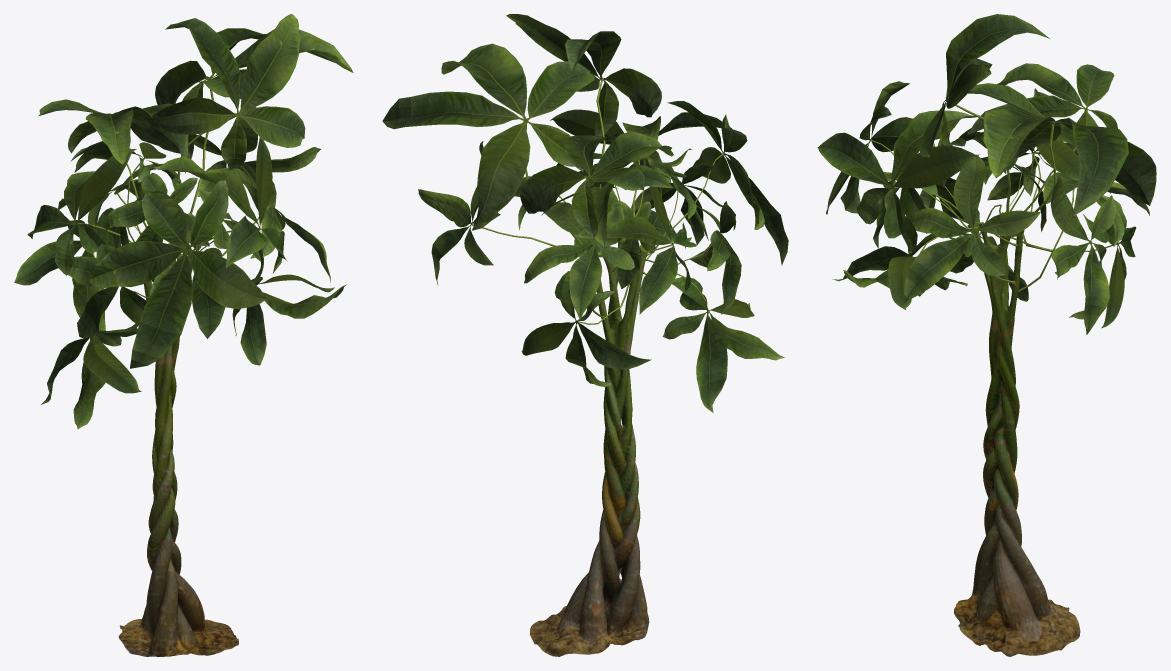
Rendered from pachira-c.glb.
3 views of the same model, side by side, from view 1: azimuth 30°, elevation 25°; view 2: azimuth 150°, elevation 25°; view 3: azimuth 270°, elevation 25° (orthographic). The views are drawn at different scales.
Size of the model in its own units: 0.7439 by 1.3 by 0.6465.
Materials: 2 (2 with a texture image).
